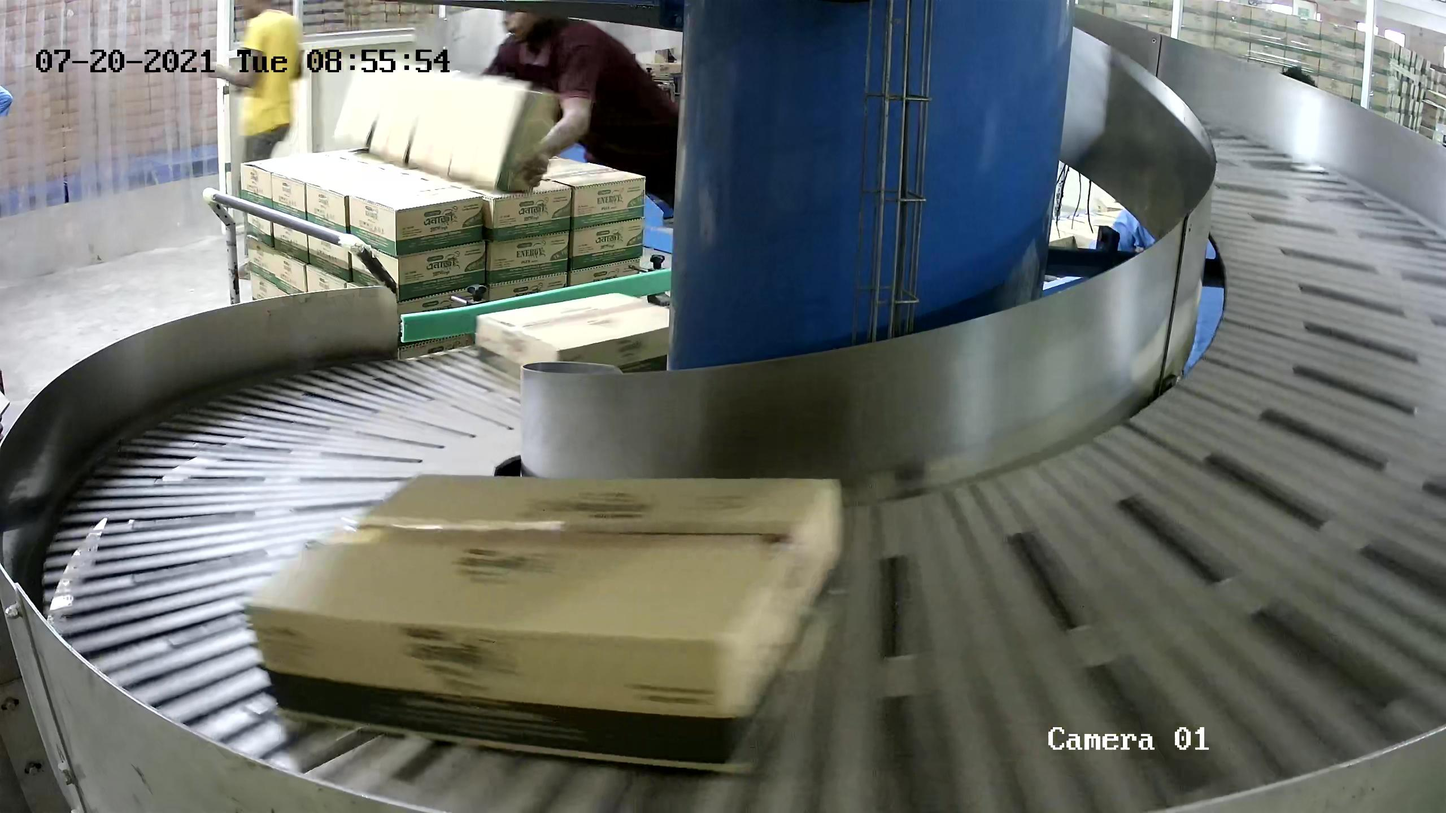Box: (244, 470, 851, 780)
